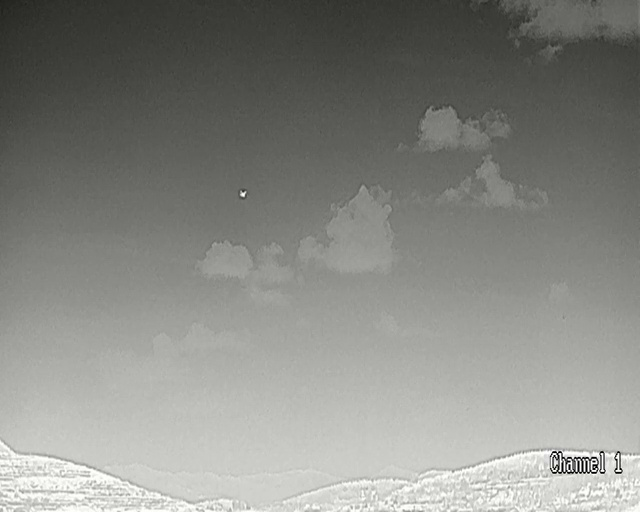uav: (240, 190, 246, 196)
